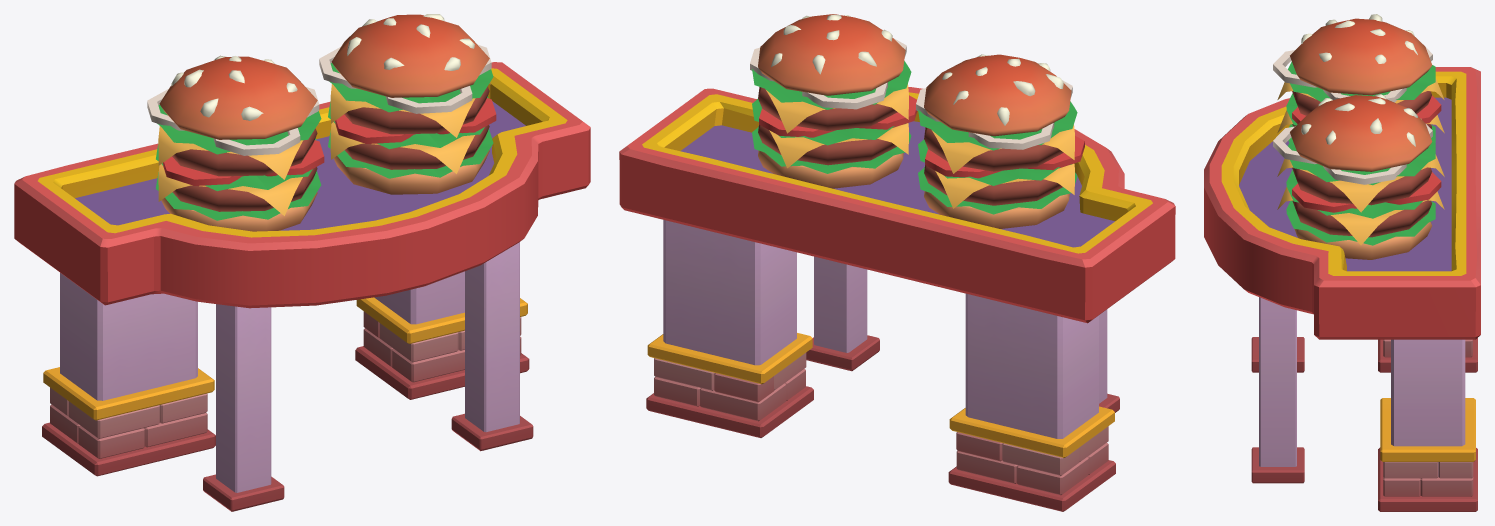
Rendered from Gate_Burger_restaurant_1.fbx.
The picture shows the model from 3 angles, left to right: view 1: azimuth 30°, elevation 25°; view 2: azimuth 150°, elevation 25°; view 3: azimuth 270°, elevation 25°; orthographic projection. The views are drawn at different scales.
Visible parts, largest first — view 1: Gate_Burger_restaurant_1; view 2: Gate_Burger_restaurant_1; view 3: Gate_Burger_restaurant_1.
Part boxes in pixels (x1=…): Gate_Burger_restaurant_1: x1=14, y1=14, x2=590, y2=511; Gate_Burger_restaurant_1: x1=619, y1=14, x2=1175, y2=511; Gate_Burger_restaurant_1: x1=1204, y1=14, x2=1480, y2=511.
Bounding box in the file's own units: 1288 × 976 × 691.
